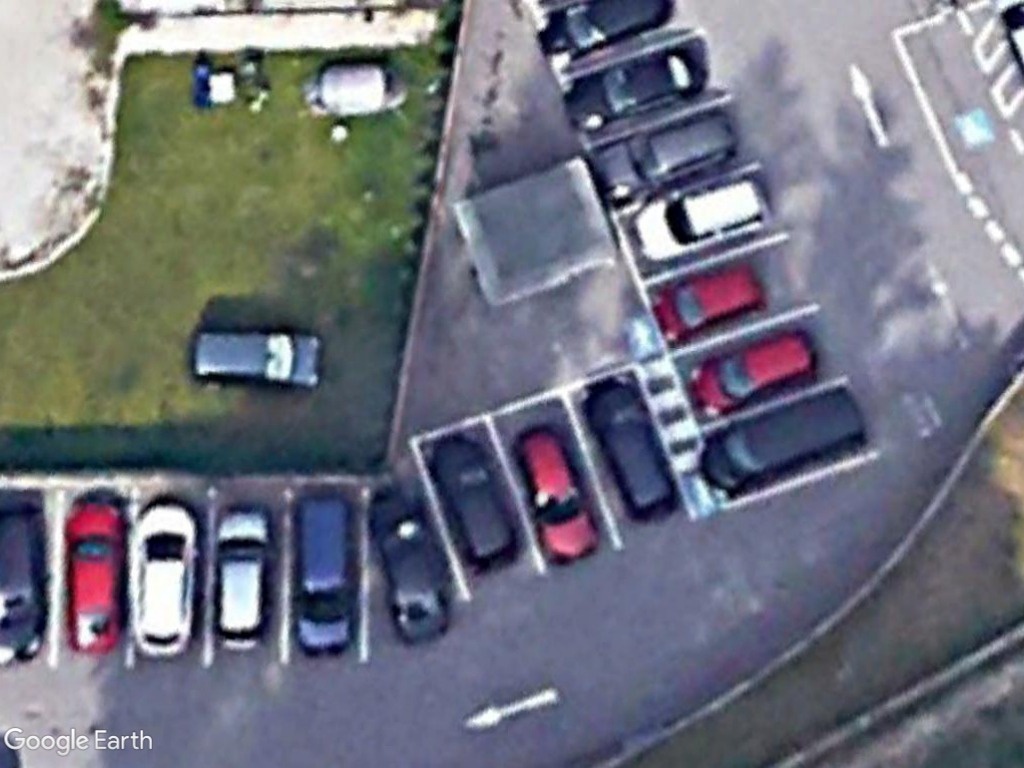car: (585, 102, 746, 211), (560, 37, 715, 138), (506, 423, 606, 573), (629, 163, 772, 267), (425, 429, 522, 575), (130, 492, 210, 665), (685, 324, 828, 417), (56, 493, 130, 662), (287, 489, 359, 662), (208, 497, 277, 655), (182, 327, 328, 400)
van: (690, 385, 873, 497), (578, 381, 682, 528)
